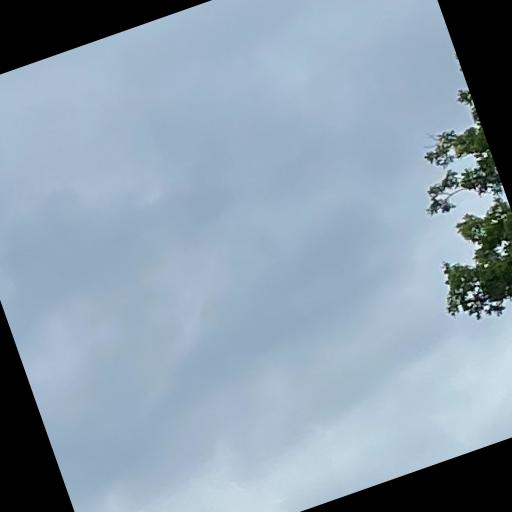tree: (424, 56, 512, 320)
